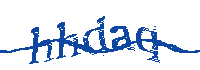a: (110, 26, 136, 52)
d: (83, 14, 108, 55)
h: (56, 21, 81, 60), (30, 26, 54, 65)
q: (135, 25, 161, 64)
